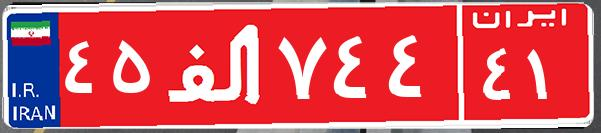1: (525, 38, 570, 115)
4: (385, 28, 445, 110), (330, 28, 385, 110), (57, 26, 110, 107), (475, 38, 525, 113)
5: (110, 28, 158, 105)
7: (273, 28, 330, 110)
الف: (158, 15, 273, 115)
